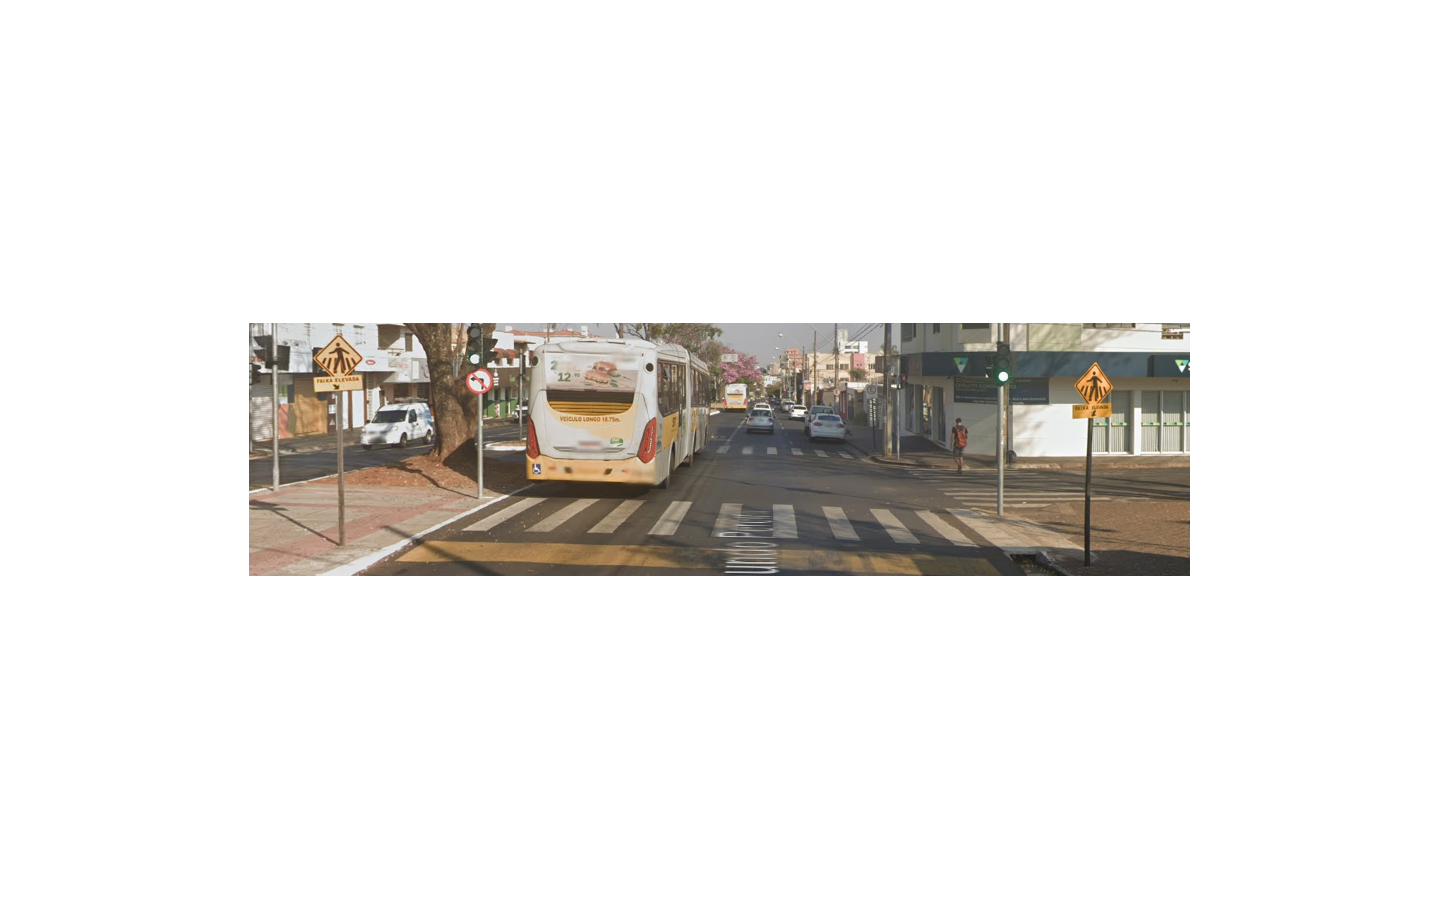telev: (311, 335, 363, 392), (1071, 362, 1113, 419)
